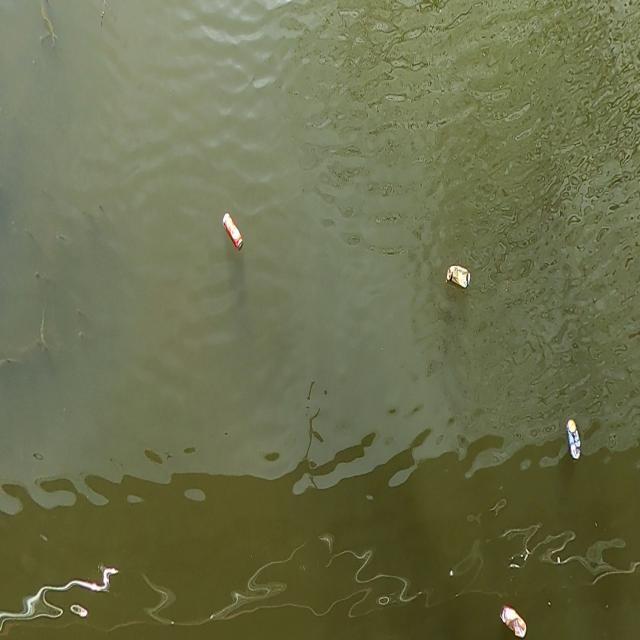Non plastique: (499, 605, 526, 638), (223, 213, 243, 249), (447, 266, 471, 289), (568, 421, 582, 458)
